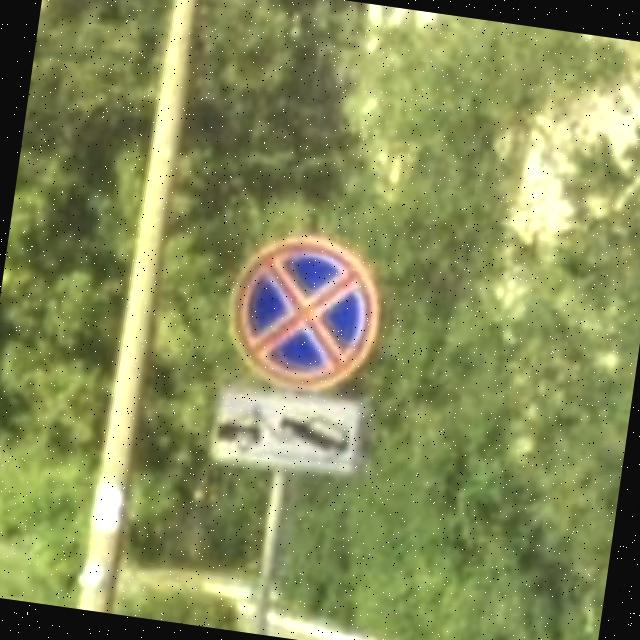Zakaz zatrzymywania sie: (215, 220, 394, 406)
